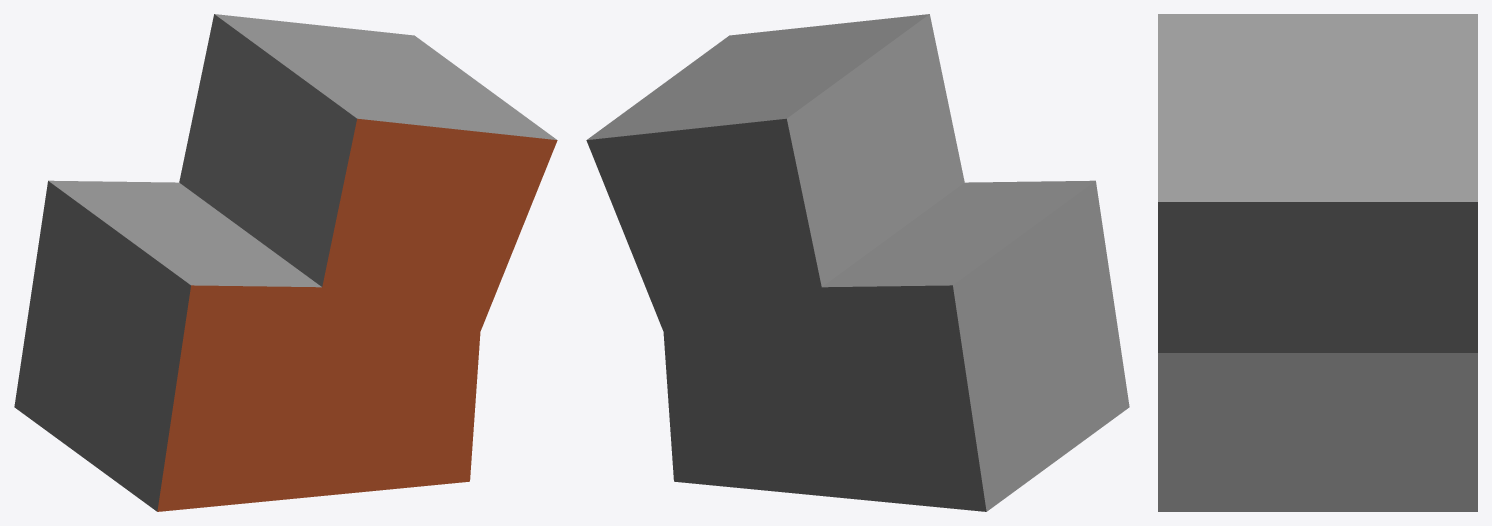
The model's file is construction_5768_assumed_A_Casa_h6m.obj.
The picture shows the model from 3 angles, left to right: view 1: azimuth 30°, elevation 25°; view 2: azimuth 150°, elevation 25°; view 3: azimuth 270°, elevation 25°; orthographic projection. The views are drawn at different scales.
Visible parts, largest first — view 1: construction_5768_assumed_A_Casa; view 2: construction_5768_assumed_A_Casa; view 3: construction_5768_assumed_A_Casa.
Boxes of the visible parts, x1=… form: construction_5768_assumed_A_Casa: x1=14, y1=14, x2=557, y2=511; construction_5768_assumed_A_Casa: x1=586, y1=14, x2=1129, y2=511; construction_5768_assumed_A_Casa: x1=1158, y1=14, x2=1477, y2=511.
Bounding box in the file's own units: 9.69 × 9.04 × 6.
